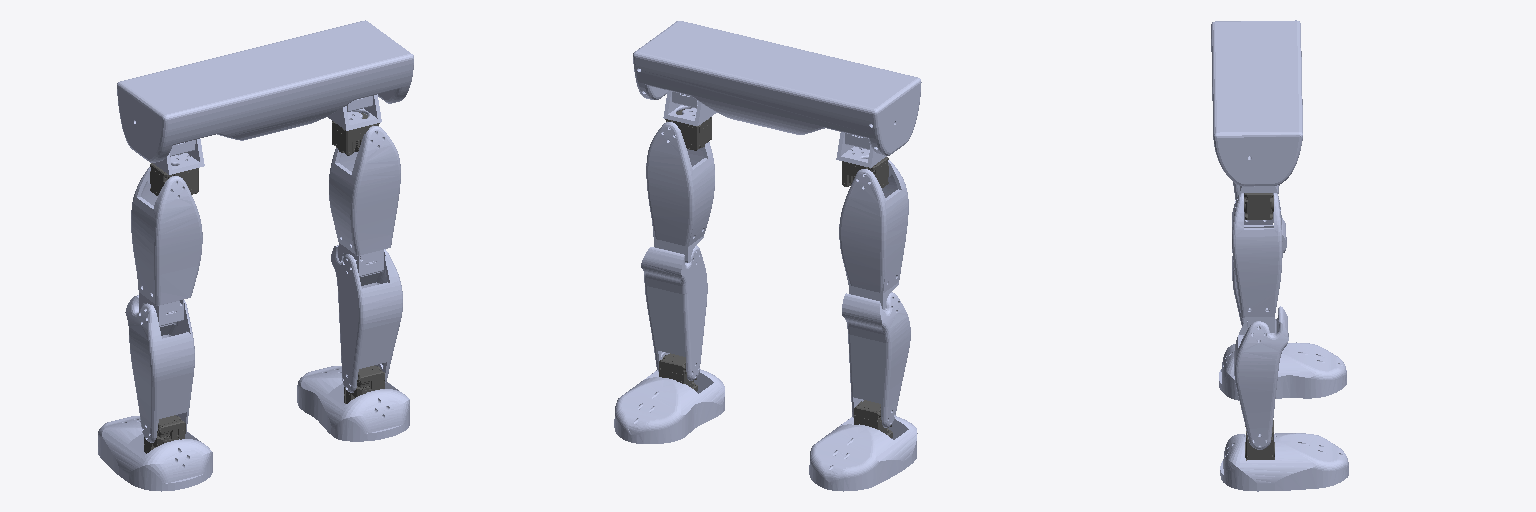
--- Facts derived from the render (not from the file) ---
3 views of the same robot in one strip: view 1: azimuth 30°, elevation 25°; view 2: azimuth 150°, elevation 25°; view 3: azimuth 270°, elevation 25° (orthographic).
Robot: yaren_piernas_description — 14 links, 13 joints (12 revolute, 1 fixed); root link world; default pose: every joint at zero.
Links seen in each view (by area): view 1: Cadera_Link, MusloI6_Link, MusloD5_Link, PantorrillaI_Link, PantorrillaD_Link, PieI12_Link, PieD11_Link, CoxisD_Link, CoxisI_Link, MusloD3_Link, PieI10_Link, PieD9_Link (+1 smaller); view 2: Cadera_Link, MusloI6_Link, MusloD5_Link, PantorrillaI_Link, PantorrillaD_Link, PieD11_Link, PieI12_Link, CoxisD_Link, CoxisI_Link, MusloD3_Link, PieD9_Link, PieI10_Link (+1 smaller); view 3: Cadera_Link, PieD11_Link, MusloD5_Link, PantorrillaD_Link, PieI12_Link, MusloD3_Link.
Boxes of the visible links, x1,y1,x2,y2 form: Cadera_Link: (117,20,413,162); MusloI6_Link: (131,167,202,326); MusloD5_Link: (329,126,400,276); PantorrillaI_Link: (125,295,194,442); PantorrillaD_Link: (331,245,402,392); PieI12_Link: (98,416,212,491); PieD11_Link: (297,366,409,441); CoxisD_Link: (327,94,381,130); CoxisI_Link: (153,139,204,174); MusloD3_Link: (332,112,379,155); PieI10_Link: (144,415,185,453); PieD9_Link: (344,365,384,403); Cadera_Link: (633,21,921,155); MusloI6_Link: (839,160,908,309); MusloD5_Link: (646,122,714,262); PantorrillaI_Link: (842,292,910,427); PantorrillaD_Link: (641,245,707,380); PieD11_Link: (614,369,724,443); PieI12_Link: (809,416,917,491); CoxisD_Link: (663,91,716,125); CoxisI_Link: (836,132,886,167); MusloD3_Link: (665,109,711,150); PieD9_Link: (659,353,697,391); PieI10_Link: (854,400,892,437); Cadera_Link: (1211,20,1302,186); PieD11_Link: (1220,433,1348,491); MusloD5_Link: (1232,193,1282,332); PantorrillaD_Link: (1234,306,1288,449); PieI12_Link: (1219,342,1346,400); MusloD3_Link: (1244,193,1273,219).
Bounding box of the posed robot: 0.3728 × 0.1737 × 0.49 m (x, y, z).
13 mesh visuals loaded from 13 distinct referenced files (13 binary STL).

URDF robot description (yaren_piernas_description):
<?xml version="1.0" encoding="utf-8"?>
<!-- This URDF was automatically created by SolidWorks to URDF Exporter! Originally created by Stephen Brawner ([email redacted]) 
     Commit Version: 1.6.0-4-g7f85cfe  Build Version: 1.6.7995.38578
     For more information, please see http://wiki.ros.org/sw_urdf_exporter -->
<robot
  name="yaren_piernas_description">

    <link name="world"/>
  <joint name="base_joint" type="fixed">
    <parent link="world"/>
    <child link="Cadera_Link"/>
    <origin rpy="0 0 0" xyz="0.0 0.0 0.4898"/>
  </joint>
  

  <link
    name="Cadera_Link">
    <inertial>
      <origin
        xyz="0.000147220163644643 2.81723410493935E-05 -0.0298863666172589"
        rpy="0 0 0" />
      <mass
        value="0.942742581114654" />
      <inertia
        ixx="0.000752860371163261"
        ixy="-0.000301098625559866"
        ixz="-4.76860148301685E-05"
        iyy="0.00997216018478389"
        iyz="-6.80815025919595E-06"
        izz="0.00991782478384419" />
    </inertial>
    <visual>
      <origin
        xyz="0 0 0"
        rpy="0 0 0" />
      <geometry>
        <mesh
          filename="package://yaren_piernas_description/meshes/Cadera_Link.STL" />
      </geometry>
      <material
        name="">
        <color
          rgba="0.792156862745098 0.819607843137255 0.933333333333333 1" />
      </material>
    </visual>
    <collision>
      <origin
        xyz="0 0 0"
        rpy="0 0 0" />
      <geometry>
        <mesh
          filename="package://yaren_piernas_description/meshes/Cadera_Link.STL" />
      </geometry>
    </collision>
  </link>
  <link
    name="CoxisD_Link">
    <inertial>
      <origin
        xyz="7.06616756915128E-05 -0.0165605584855214 0.0235614383856656"
        rpy="0 0 0" />
      <mass
        value="0.020745117471123" />
      <inertia
        ixx="9.87819426130832E-06"
        ixy="-3.35539796450778E-08"
        ixz="8.94332240963538E-09"
        iyy="1.02005470755493E-05"
        iyz="-1.60622227575972E-07"
        izz="5.84460352065781E-06" />
    </inertial>
    <visual>
      <origin
        xyz="0 0 0"
        rpy="0 0 0" />
      <geometry>
        <mesh
          filename="package://yaren_piernas_description/meshes/CoxisD_Link.STL" />
      </geometry>
      <material
        name="">
        <color
          rgba="0.792156862745098 0.819607843137255 0.933333333333333 1" />
      </material>
    </visual>
    <collision>
      <origin
        xyz="0 0 0"
        rpy="0 0 0" />
      <geometry>
        <mesh
          filename="package://yaren_piernas_description/meshes/CoxisD_Link.STL" />
      </geometry>
    </collision>
  </link>
  <joint
    name="CoxisD_Joint"
    type="revolute">
    <origin
      xyz="0.095821 0.0014123 -0.065951"
      rpy="1.5703 -0.0087263 1.5795" />
    <parent
      link="Cadera_Link" />
    <child
      link="CoxisD_Link" />
    <axis
      xyz="0 0 1" />
    <limit
      lower="-1.5708"
      upper="1.5708"
      effort="1.4"
      velocity="52" />
  </joint>
  <link
    name="MusloD3_Link">
    <inertial>
      <origin
        xyz="0.000495972032252035 -0.0119998480135103 -0.0204201722301685"
        rpy="0 0 0" />
      <mass
        value="0.0569176381843203" />
      <inertia
        ixx="1.43924904775921E-05"
        ixy="5.82484847066538E-10"
        ixz="3.44003471185179E-07"
        iyy="1.02302747980035E-05"
        iyz="-7.69930496565516E-10"
        izz="1.43925067823277E-05" />
    </inertial>
    <visual>
      <origin
        xyz="0 0 0"
        rpy="0 0 0" />
      <geometry>
        <mesh
          filename="package://yaren_piernas_description/meshes/MusloD3_Link.STL" />
      </geometry>
      <material
        name="">
        <color
          rgba="0.411764705882353 0.411764705882353 0.411764705882353 1" />
      </material>
    </visual>
    <collision>
      <origin
        xyz="0 0 0"
        rpy="0 0 0" />
      <geometry>
        <mesh
          filename="package://yaren_piernas_description/meshes/MusloD3_Link.STL" />
      </geometry>
    </collision>
  </link>
  <joint
    name="MusloD3_Joint"
    type="revolute">
    <origin
      xyz="0 -0.026584 0.015243"
      rpy="-1.5708 0 0" />
    <parent
      link="CoxisD_Link" />
    <child
      link="MusloD3_Link" />
    <axis
      xyz="0 0 -1" />
    <limit
      lower="-1.5708"
      upper="1.5708"
      effort="1.3"
      velocity="48" />
  </joint>
  <link
    name="MusloD5_Link">
    <inertial>
      <origin
        xyz="0.000389974867522791 -0.0976144542672702 -0.00161346078186912"
        rpy="0 0 0" />
      <mass
        value="0.212552658837267" />
      <inertia
        ixx="0.000403358560814503"
        ixy="1.31484667679828E-05"
        ixz="7.03124032688756E-08"
        iyy="0.000153020163152075"
        iyz="1.32795884866211E-05"
        izz="0.000400324720608625" />
    </inertial>
    <visual>
      <origin
        xyz="0 0 0"
        rpy="0 0 0" />
      <geometry>
        <mesh
          filename="package://yaren_piernas_description/meshes/MusloD5_Link.STL" />
      </geometry>
      <material
        name="">
        <color
          rgba="0.792156862745098 0.819607843137255 0.933333333333333 1" />
      </material>
    </visual>
    <collision>
      <origin
        xyz="0 0 0"
        rpy="0 0 0" />
      <geometry>
        <mesh
          filename="package://yaren_piernas_description/meshes/MusloD5_Link.STL" />
      </geometry>
    </collision>
  </link>
  <joint
    name="MusloD5_Joint"
    type="revolute">
    <origin
      xyz="0 -0.024 -0.020916"
      rpy="1.5708 0 1.5708" />
    <parent
      link="MusloD3_Link" />
    <child
      link="MusloD5_Link" />
    <axis
      xyz="0 0 -1" />
    <limit
      lower="-1.5708"
      upper="1.5708"
      effort="0"
      velocity="0" />
  </joint>
  <link
    name="PantorrillaD_Link">
    <inertial>
      <origin
        xyz="-0.00482647018269064 -0.0562403913141357 0.00386549565439919"
        rpy="0 0 0" />
      <mass
        value="0.163713939167031" />
      <inertia
        ixx="0.00036452470644528"
        ixy="7.86058464624135E-06"
        ixz="-9.86446851178317E-07"
        iyy="0.000125485126362854"
        iyz="-4.68758515239534E-05"
        izz="0.00037029873208801" />
    </inertial>
    <visual>
      <origin
        xyz="0 0 0"
        rpy="0 0 0" />
      <geometry>
        <mesh
          filename="package://yaren_piernas_description/meshes/PantorrillaD_Link.STL" />
      </geometry>
      <material
        name="">
        <color
          rgba="0.792156862745098 0.819607843137255 0.933333333333333 1" />
      </material>
    </visual>
    <collision>
      <origin
        xyz="0 0 0"
        rpy="0 0 0" />
      <geometry>
        <mesh
          filename="package://yaren_piernas_description/meshes/PantorrillaD_Link.STL" />
      </geometry>
    </collision>
  </link>
  <joint
    name="PantorrillaD_Joint"
    type="revolute">
    <origin
      xyz="0 -0.16792 -0.0013969"
      rpy="0 0 0" />
    <parent
      link="MusloD5_Link" />
    <child
      link="PantorrillaD_Link" />
    <axis
      xyz="-1 0 0" />
    <limit
      lower="-1.5708"
      upper="1.5708"
      effort="1.4"
      velocity="52" />
  </joint>
  <link
    name="PieD9_Link">
    <inertial>
      <origin
        xyz="0.000495971902237935 0.012000150511161 0.000495879048170524"
        rpy="0 0 0" />
      <mass
        value="0.0569176443370124" />
      <inertia
        ixx="1.43924905065838E-05"
        ixy="5.82506484645811E-10"
        ixz="3.44003433595949E-07"
        iyy="1.02302750008338E-05"
        iyz="-7.69914039215513E-10"
        izz="1.4392507011912E-05" />
    </inertial>
    <visual>
      <origin
        xyz="0 0 0"
        rpy="0 0 0" />
      <geometry>
        <mesh
          filename="package://yaren_piernas_description/meshes/PieD9_Link.STL" />
      </geometry>
      <material
        name="">
        <color
          rgba="0.411764705882353 0.411764705882353 0.411764705882353 1" />
      </material>
    </visual>
    <collision>
      <origin
        xyz="0 0 0"
        rpy="0 0 0" />
      <geometry>
        <mesh
          filename="package://yaren_piernas_description/meshes/PieD9_Link.STL" />
      </geometry>
    </collision>
  </link>
  <joint
    name="PieD9_Joint"
    type="revolute">
    <origin
      xyz="0 -0.15 0"
      rpy="0 0 -3.1416" />
    <parent
      link="PantorrillaD_Link" />
    <child
      link="PieD9_Link" />
    <axis
      xyz="1 0 0" />
    <limit
      lower="-1.5708"
      upper="1.5708"
      effort="1.3"
      velocity="48" />
  </joint>
  <link
    name="PieD11_Link">
    <inertial>
      <origin
        xyz="-0.000422712960562122 -0.0156802924901077 0.0292534404711574"
        rpy="0 0 0" />
      <mass
        value="0.439542856963236" />
      <inertia
        ixx="0.000802752305127522"
        ixy="-9.12172106427626E-07"
        ixz="5.96615727061781E-06"
        iyy="0.00105401701329437"
        iyz="2.05798856437754E-06"
        izz="0.000369174716621098" />
    </inertial>
    <visual>
      <origin
        xyz="0 0 0"
        rpy="0 0 0" />
      <geometry>
        <mesh
          filename="package://yaren_piernas_description/meshes/PieD11_Link.STL" />
      </geometry>
      <material
        name="">
        <color
          rgba="0.792156862745098 0.819607843137255 0.933333333333333 1" />
      </material>
    </visual>
    <collision>
      <origin
        xyz="0 0 0"
        rpy="0 0 0" />
      <geometry>
        <mesh
          filename="package://yaren_piernas_description/meshes/PieD11_Link.STL" />
      </geometry>
    </collision>
  </link>
  <joint
    name="PieD11_Joint"
    type="revolute">
    <origin
      xyz="0 0.024 0"
      rpy="0 0 -3.1416" />
    <parent
      link="PieD9_Link" />
    <child
      link="PieD11_Link" />
    <axis
      xyz="0 0 -1" />
    <limit
      lower="-1.5708"
      upper="1.5708"
      effort="0"
      velocity="0" />
  </joint>
  <link
    name="CoxisI_Link">
    <inertial>
      <origin
        xyz="7.06620759330576E-05 -0.0165605586791962 -0.0235614391914631"
        rpy="0 0 0" />
      <mass
        value="0.0207451185588264" />
      <inertia
        ixx="9.87819455778111E-06"
        ixy="-3.35539517916912E-08"
        ixz="-8.94319852493181E-09"
        iyy="1.0200547267101E-05"
        iyz="1.60622152918934E-07"
        izz="5.84460346807627E-06" />
    </inertial>
    <visual>
      <origin
        xyz="0 0 0"
        rpy="0 0 0" />
      <geometry>
        <mesh
          filename="package://yaren_piernas_description/meshes/CoxisI_Link.STL" />
      </geometry>
      <material
        name="">
        <color
          rgba="0.792156862745098 0.819607843137255 0.933333333333333 1" />
      </material>
    </visual>
    <collision>
      <origin
        xyz="0 0 0"
        rpy="0 0 0" />
      <geometry>
        <mesh
          filename="package://yaren_piernas_description/meshes/CoxisI_Link.STL" />
      </geometry>
    </collision>
  </link>
  <joint
    name="CoxisI_Joint"
    type="revolute">
    <origin
      xyz="-0.095767 -0.00025996 -0.066044"
      rpy="1.5703 -0.0087263 1.5795" />
    <parent
      link="Cadera_Link" />
    <child
      link="CoxisI_Link" />
    <axis
      xyz="0 0 -1" />
    <limit
      lower="-1.5708"
      upper="1.5708"
      effort="1.4"
      velocity="52" />
  </joint>
  <link
    name="MusloI4_Link">
    <inertial>
      <origin
        xyz="0.000495972500790639 -0.0119998502936846 -0.0204201723479899"
        rpy="0 0 0" />
      <mass
        value="0.0569176377460287" />
      <inertia
        ixx="1.43924903948573E-05"
        ixy="5.82441638587003E-10"
        ixz="3.44003418695943E-07"
        iyy="1.02302748165613E-05"
        iyz="-7.69904102685343E-10"
        izz="1.43925069403968E-05" />
    </inertial>
    <visual>
      <origin
        xyz="0 0 0"
        rpy="0 0 0" />
      <geometry>
        <mesh
          filename="package://yaren_piernas_description/meshes/MusloI4_Link.STL" />
      </geometry>
      <material
        name="">
        <color
          rgba="0.411764705882353 0.411764705882353 0.411764705882353 1" />
      </material>
    </visual>
    <collision>
      <origin
        xyz="0 0 0"
        rpy="0 0 0" />
      <geometry>
        <mesh
          filename="package://yaren_piernas_description/meshes/MusloI4_Link.STL" />
      </geometry>
    </collision>
  </link>
  <joint
    name="MusloI4_Joint"
    type="revolute">
    <origin
      xyz="0 -0.026584 -0.015243"
      rpy="1.5708 0 3.1416" />
    <parent
      link="CoxisI_Link" />
    <child
      link="MusloI4_Link" />
    <axis
      xyz="0 0 -1" />
    <limit
      lower="-1.5708"
      upper="1.5708"
      effort="1.3"
      velocity="48" />
  </joint>
  <link
    name="MusloI6_Link">
    <inertial>
      <origin
        xyz="0.000388513761481024 -0.0976126890354434 0.0016175608185564"
        rpy="0 0 0" />
      <mass
        value="0.212545275432212" />
      <inertia
        ixx="0.000403280561490835"
        ixy="1.31582949252143E-05"
        ixz="-7.29964570203565E-08"
        iyy="0.000152996296643423"
        iyz="-1.31999773834732E-05"
        izz="0.000400227126956471" />
    </inertial>
    <visual>
      <origin
        xyz="0 0 0"
        rpy="0 0 0" />
      <geometry>
        <mesh
          filename="package://yaren_piernas_description/meshes/MusloI6_Link.STL" />
      </geometry>
      <material
        name="">
        <color
          rgba="0.792156862745098 0.819607843137255 0.933333333333333 1" />
      </material>
    </visual>
    <collision>
      <origin
        xyz="0 0 0"
        rpy="0 0 0" />
      <geometry>
        <mesh
          filename="package://yaren_piernas_description/meshes/MusloI6_Link.STL" />
      </geometry>
    </collision>
  </link>
  <joint
    name="MusloI6_Joint"
    type="revolute">
    <origin
      xyz="0 -0.024 -0.020916"
      rpy="1.5708 0 1.5708" />
    <parent
      link="MusloI4_Link" />
    <child
      link="MusloI6_Link" />
    <axis
      xyz="0 0 1" />
    <limit
      lower="-1.5708"
      upper="1.5708"
      effort="0"
      velocity="0" />
  </joint>
  <link
    name="PantorrillaI_Link">
    <inertial>
      <origin
        xyz="-0.00485726889260676 -0.0562401866800502 -0.00386571005705665"
        rpy="0 0 0" />
      <mass
        value="0.163718726195497" />
      <inertia
        ixx="0.000364542817391779"
        ixy="7.36103686600058E-06"
        ixz="1.0257745411306E-06"
        iyy="0.000125438373495277"
        iyz="4.68794779538048E-05"
        izz="0.000370268084855737" />
    </inertial>
    <visual>
      <origin
        xyz="0 0 0"
        rpy="0 0 0" />
      <geometry>
        <mesh
          filename="package://yaren_piernas_description/meshes/PantorrillaI_Link.STL" />
      </geometry>
      <material
        name="">
        <color
          rgba="0.792156862745098 0.819607843137255 0.933333333333333 1" />
      </material>
    </visual>
    <collision>
      <origin
        xyz="0 0 0"
        rpy="0 0 0" />
      <geometry>
        <mesh
          filename="package://yaren_piernas_description/meshes/PantorrillaI_Link.STL" />
      </geometry>
    </collision>
  </link>
  <joint
    name="PantorrillaI_Joint"
    type="revolute">
    <origin
      xyz="0 -0.16792 0.0013969"
      rpy="0 0 0" />
    <parent
      link="MusloI6_Link" />
    <child
      link="PantorrillaI_Link" />
    <axis
      xyz="-1 0 0" />
    <limit
      lower="-1.5708"
      upper="1.5708"
      effort="1.4"
      velocity="52" />
  </joint>
  <link
    name="PieI10_Link">
    <inertial>
      <origin
        xyz="0.00049597135205387 0.0120001505111654 0.000495879048174521"
        rpy="0 0 0" />
      <mass
        value="0.0569176443370131" />
      <inertia
        ixx="1.43924905065839E-05"
        ixy="5.82506484649108E-10"
        ixz="3.44003433595916E-07"
        iyy="1.02302750008338E-05"
        iyz="-7.69914039197434E-10"
        izz="1.4392507011912E-05" />
    </inertial>
    <visual>
      <origin
        xyz="0 0 0"
        rpy="0 0 0" />
      <geometry>
        <mesh
          filename="package://yaren_piernas_description/meshes/PieI10_Link.STL" />
      </geometry>
      <material
        name="">
        <color
          rgba="0.411764705882353 0.411764705882353 0.411764705882353 1" />
      </material>
    </visual>
    <collision>
      <origin
        xyz="0 0 0"
        rpy="0 0 0" />
      <geometry>
        <mesh
          filename="package://yaren_piernas_description/meshes/PieI10_Link.STL" />
      </geometry>
    </collision>
  </link>
  <joint
    name="PieI10_Joint"
    type="revolute">
    <origin
      xyz="0 -0.15 0"
      rpy="-3.1416 0 0" />
    <parent
      link="PantorrillaI_Link" />
    <child
      link="PieI10_Link" />
    <axis
      xyz="-1 0 0" />
    <limit
      lower="-1.5708"
      upper="1.5708"
      effort="1.3"
      velocity="48" />
  </joint>
  <link
    name="PieI12_Link">
    <inertial>
      <origin
        xyz="-0.00042182146546893 -0.0156812519368836 -0.0292581619055721"
        rpy="0 0 0" />
      <mass
        value="0.439563644315815" />
      <inertia
        ixx="0.00080293029988846"
        ixy="-9.22336803083527E-07"
        ixz="-5.98635198322593E-06"
        iyy="0.00105415319919723"
        iyz="-2.0657167582179E-06"
        izz="0.000369123991830388" />
    </inertial>
    <visual>
      <origin
        xyz="0 0 0"
        rpy="0 0 0" />
      <geometry>
        <mesh
          filename="package://yaren_piernas_description/meshes/PieI12_Link.STL" />
      </geometry>
      <material
        name="">
        <color
          rgba="0.792156862745098 0.819607843137255 0.933333333333333 1" />
      </material>
    </visual>
    <collision>
      <origin
        xyz="0 0 0"
        rpy="0 0 0" />
      <geometry>
        <mesh
          filename="package://yaren_piernas_description/meshes/PieI12_Link.STL" />
      </geometry>
    </collision>
  </link>
  <joint
    name="PieI12_Joint"
    type="revolute">
    <origin
      xyz="0 0.024 0"
      rpy="-3.1416 0 0" />
    <parent
      link="PieI10_Link" />
    <child
      link="PieI12_Link" />
    <axis
      xyz="0 0 1" />
    <limit
      lower="-1.5708"
      upper="1.5708"
      effort="0"
      velocity="0" />
  </joint>
  <transmission name="CoxisD_Link_trans">
    <type>transmission_interface/SimpleTransmission</type>
    <joint name="CoxisD_Joint">
    <hardwareInterface>hardware_interface/PositionJointInterface</hardwareInterface>
    </joint>
    <actuator name="CoxisD_motor">
    <hardwareInterface>hardware_interface/PositionJointInterface</hardwareInterface>
      <mechanicalReduction>1</mechanicalReduction>
    </actuator>
  </transmission>
  <transmission name="MusloD3_Link_trans">
    <type>transmission_interface/SimpleTransmission</type>
    <joint name="MusloD3_Joint">
    <hardwareInterface>hardware_interface/PositionJointInterface</hardwareInterface>
    </joint>
    <actuator name="MusloD3_motor">
    <hardwareInterface>hardware_interface/PositionJointInterface</hardwareInterface>
      <mechanicalReduction>1</mechanicalReduction>
    </actuator>
  </transmission>
  <transmission name="MusloD5_Link_trans">
    <type>transmission_interface/SimpleTransmission</type>
    <joint name="MusloD5_Joint">
    <hardwareInterface>hardware_interface/PositionJointInterface</hardwareInterface>
    </joint>
    <actuator name="MusloD5_motor">
    <hardwareInterface>hardware_interface/PositionJointInterface</hardwareInterface>
      <mechanicalReduction>1</mechanicalReduction>
    </actuator>
  </transmission>
  <transmission name="PantorrillaD_Link_trans">
    <type>transmission_interface/SimpleTransmission</type>
    <joint name="PantorrillaD_Joint">
    <hardwareInterface>hardware_interface/PositionJointInterface</hardwareInterface>
    </joint>
    <actuator name="PantorrillaD_motor">
    <hardwareInterface>hardware_interface/PositionJointInterface</hardwareInterface>
      <mechanicalReduction>1</mechanicalReduction>
    </actuator>
  </transmission>
  <transmission name="PieD9_Link_trans">
    <type>transmission_interface/SimpleTransmission</type>
    <joint name="PieD9_Joint">
    <hardwareInterface>hardware_interface/PositionJointInterface</hardwareInterface>
    </joint>
    <actuator name="PieD9_motor">
    <hardwareInterface>hardware_interface/PositionJointInterface</hardwareInterface>
      <mechanicalReduction>1</mechanicalReduction>
    </actuator>
  </transmission>
  <transmission name="PieD11_Link_trans">
    <type>transmission_interface/SimpleTransmission</type>
    <joint name="PieD11_Joint">
    <hardwareInterface>hardware_interface/PositionJointInterface</hardwareInterface>
    </joint>
    <actuator name="PieD11_motor">
    <hardwareInterface>hardware_interface/PositionJointInterface</hardwareInterface>
      <mechanicalReduction>1</mechanicalReduction>
    </actuator>
  </transmission>
  <transmission name="CoxisI_Link_trans">
    <type>transmission_interface/SimpleTransmission</type>
    <joint name="CoxisI_Joint">
    <hardwareInterface>hardware_interface/PositionJointInterface</hardwareInterface>
    </joint>
    <actuator name="CoxisI_motor">
    <hardwareInterface>hardware_interface/PositionJointInterface</hardwareInterface>
      <mechanicalReduction>1</mechanicalReduction>
    </actuator>
  </transmission>
  <transmission name="MusloI4_Link_trans">
    <type>transmission_interface/SimpleTransmission</type>
    <joint name="MusloI4_Joint">
    <hardwareInterface>hardware_interface/PositionJointInterface</hardwareInterface>
    </joint>
    <actuator name="MusloI4_motor">
    <hardwareInterface>hardware_interface/PositionJointInterface</hardwareInterface>
      <mechanicalReduction>1</mechanicalReduction>
    </actuator>
  </transmission>
  <transmission name="MusloI6_Link_trans">
    <type>transmission_interface/SimpleTransmission</type>
    <joint name="MusloI6_Joint">
    <hardwareInterface>hardware_interface/PositionJointInterface</hardwareInterface>
    </joint>
    <actuator name="MusloI6_motor">
    <hardwareInterface>hardware_interface/PositionJointInterface</hardwareInterface>
      <mechanicalReduction>1</mechanicalReduction>
    </actuator>
  </transmission>
  <transmission name="PantorrillaI_Link_trans">
    <type>transmission_interface/SimpleTransmission</type>
    <joint name="PantorrillaI_Joint">
    <hardwareInterface>hardware_interface/PositionJointInterface</hardwareInterface>
    </joint>
    <actuator name="PantorrillaI_motor">
    <hardwareInterface>hardware_interface/PositionJointInterface</hardwareInterface>
      <mechanicalReduction>1</mechanicalReduction>
    </actuator>
  </transmission>
  <transmission name="PieI10_Link_trans">
    <type>transmission_interface/SimpleTransmission</type>
    <joint name="PieI10_Joint">
    <hardwareInterface>hardware_interface/PositionJointInterface</hardwareInterface>
    </joint>
    <actuator name="PieI10_motor">
    <hardwareInterface>hardware_interface/PositionJointInterface</hardwareInterface>
      <mechanicalReduction>1</mechanicalReduction>
    </actuator>
  </transmission>
  <transmission name="PieI12_Link_trans">
    <type>transmission_interface/SimpleTransmission</type>
    <joint name="PieI12_Joint">
    <hardwareInterface>hardware_interface/PositionJointInterface</hardwareInterface>
    </joint>
    <actuator name="PieI12_motor">
    <hardwareInterface>hardware_interface/PositionJointInterface</hardwareInterface>
      <mechanicalReduction>1</mechanicalReduction>
    </actuator>
  </transmission>
  <gazebo>
    <plugin name="control"
    filename="libgazebo_ros_control.so">
      <robotNamespace>/</robotNamespace>
      <robotSimType>gazebo_ros_control/DefaultRobotHWSim</robotSimType>
      <legacyModeNS>true</legacyModeNS>
    </plugin>
  </gazebo>
  <gazebo reference="CoxisD_Link">
	<selfCollide>true</selfCollide>
  </gazebo>
  <gazebo reference="MusloD3_Link">
	<selfCollide>true</selfCollide>
  </gazebo>
  <gazebo reference="MusloD5_Link">
	<selfCollide>true</selfCollide>
  </gazebo>
  <gazebo reference="PantorrillaD_Link">
	<selfCollide>true</selfCollide>
  </gazebo>
  <gazebo reference="PieD9_Link">
	<selfCollide>true</selfCollide>
  </gazebo>
  <gazebo reference="PieD11_Link">
	<selfCollide>true</selfCollide>
  </gazebo>
  <gazebo reference="CoxisI_Link">
	<selfCollide>true</selfCollide>
  </gazebo>
  <gazebo reference="MusloI4_Link">
	<selfCollide>true</selfCollide>
  </gazebo>
  <gazebo reference="MusloI6_Link">
	<selfCollide>true</selfCollide>
  </gazebo>
  <gazebo reference="PantorrillaI_Link">
	<selfCollide>true</selfCollide>
  </gazebo>
  <gazebo reference="PieI10_Link">
	<selfCollide>true</selfCollide>
  </gazebo>
  <gazebo reference="PieI12_Link">
	<selfCollide>true</selfCollide>
  </gazebo>
</robot>
